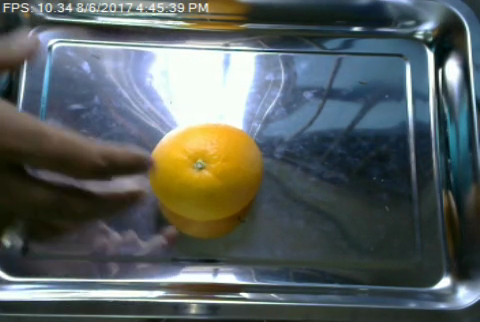Orange: (149, 123, 262, 220)
